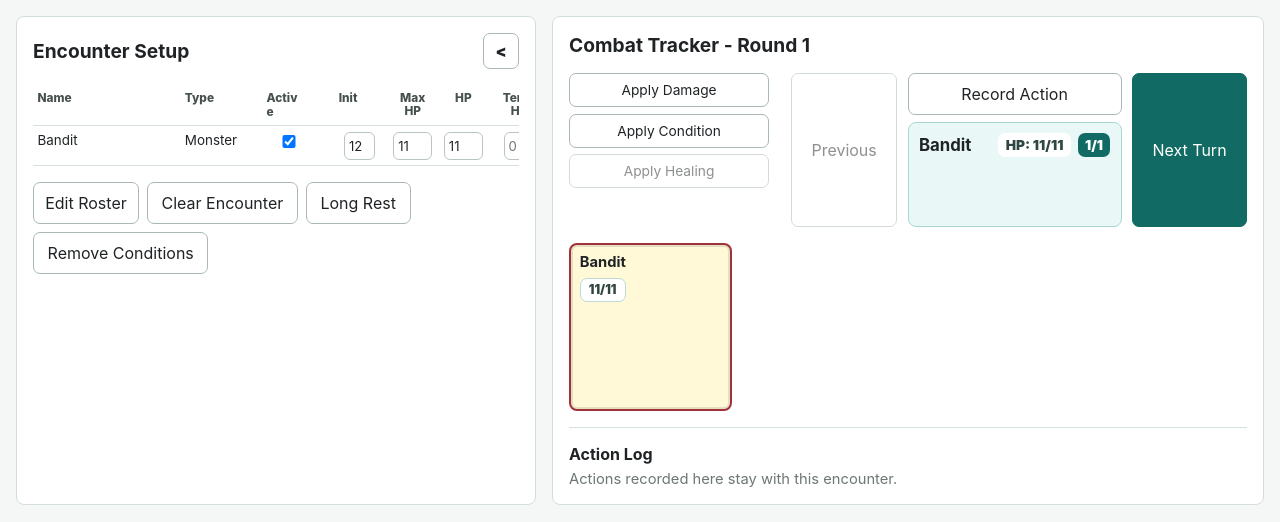
Test: App workflow › toggles combatant edit mode for name and type fields
The image size is (1280, 522).
Click the button "Edit Roster" at (86, 203), box [33,182,139,224]
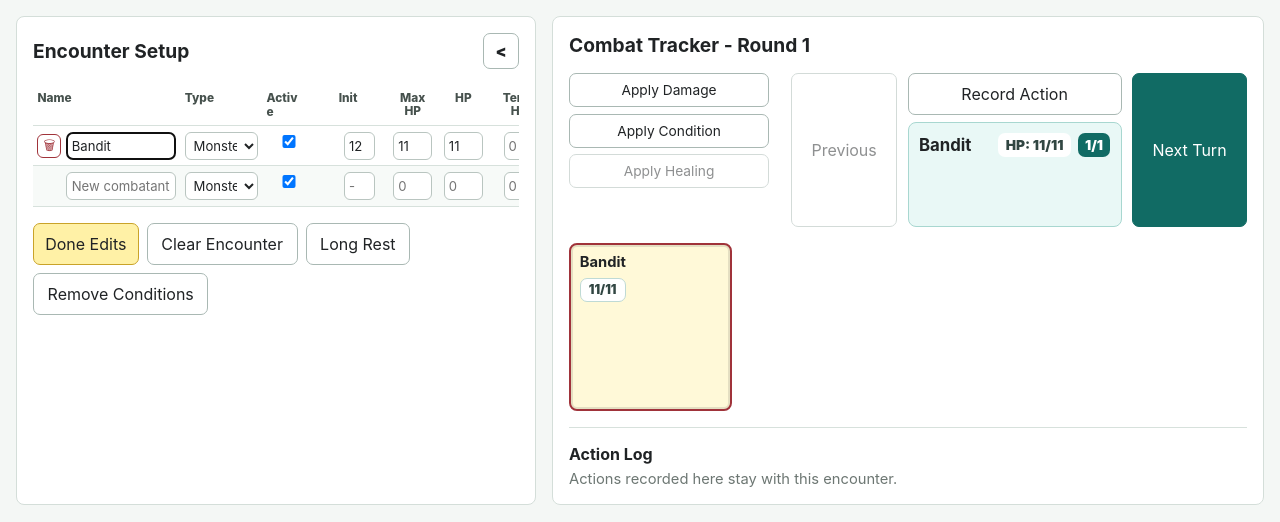
Expected: the button "Done Edits" is shown
Expected: the field showing "Bandit" is shown, [66,132,176,160]
Expected: the dropdown named "Type for Bandit" is shown, [185,132,258,160]
Click the button "Done Edits" at (86, 244), box [33,223,139,265]
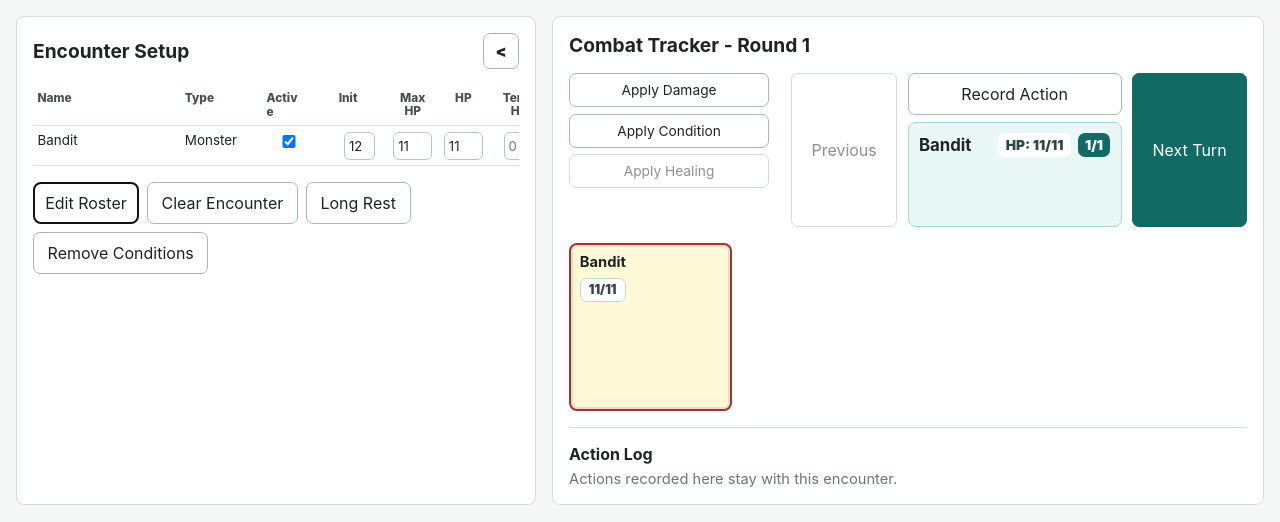
Expected: the button "Edit Roster" is shown, [33,182,139,224]
